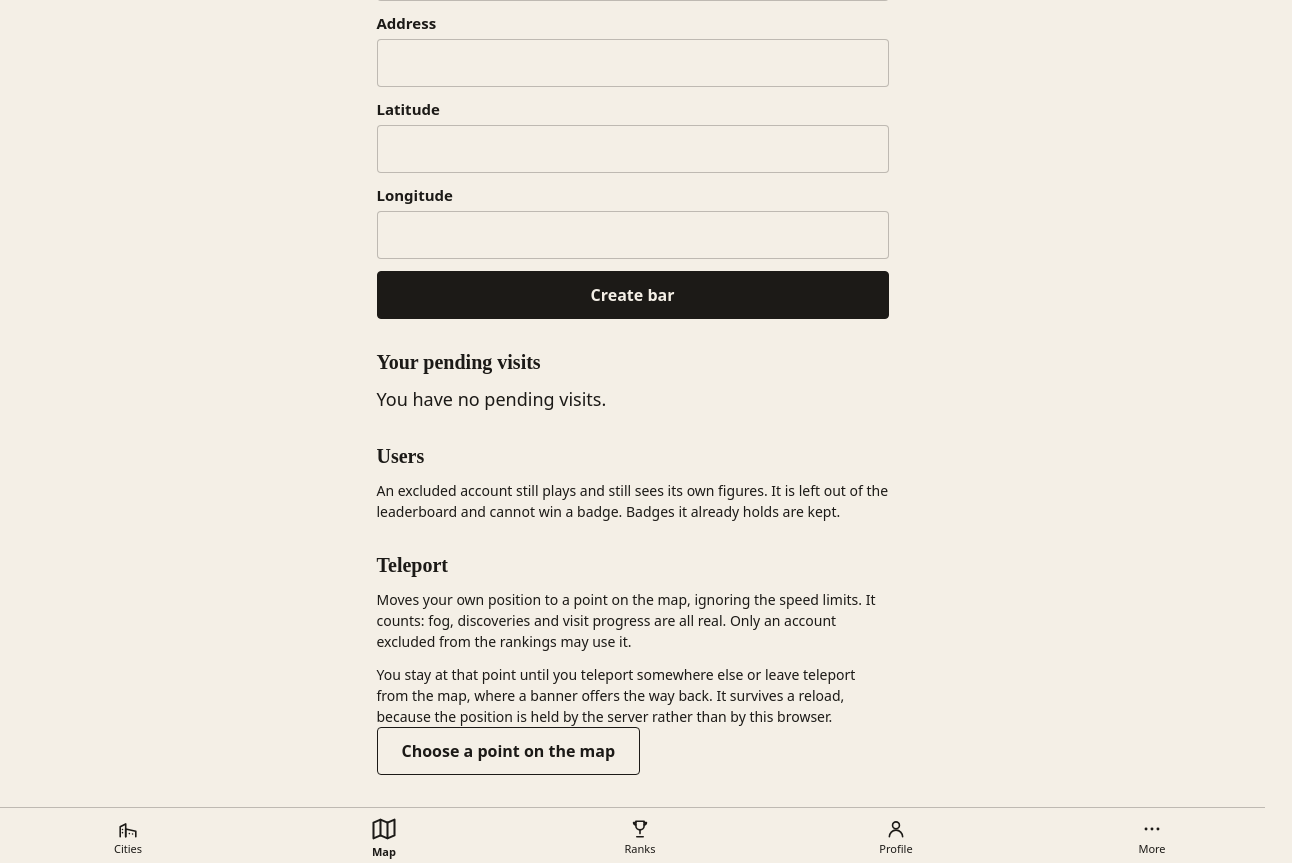
Test: admin teleport › shows the server's reason when the account is still in the rankings
(page scrolled)
Click the button "Choose a point on the map" at x=508, y=751, box [376,727,640,775]
(page scrolled)
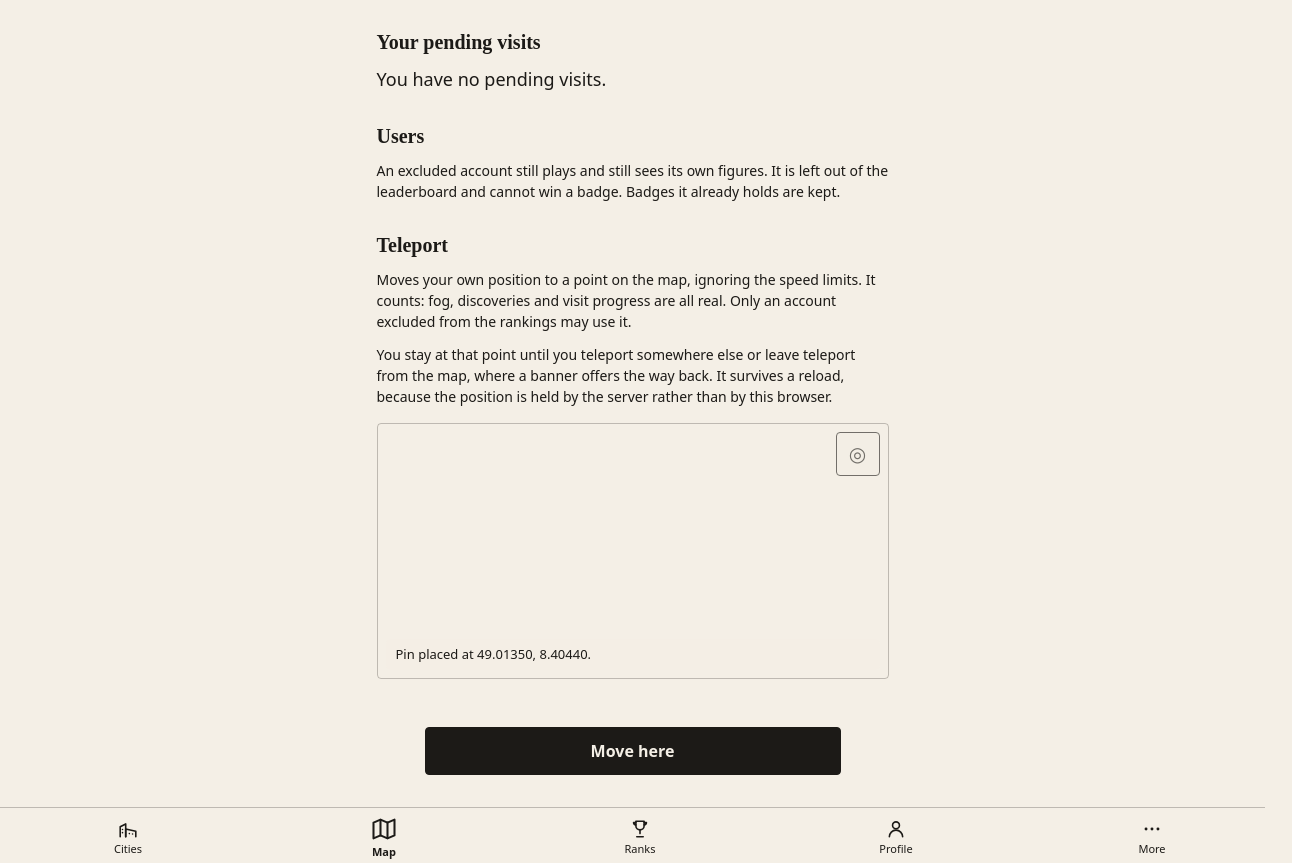
Click the button "Move here" at x=632, y=751, box [424,727,840,775]
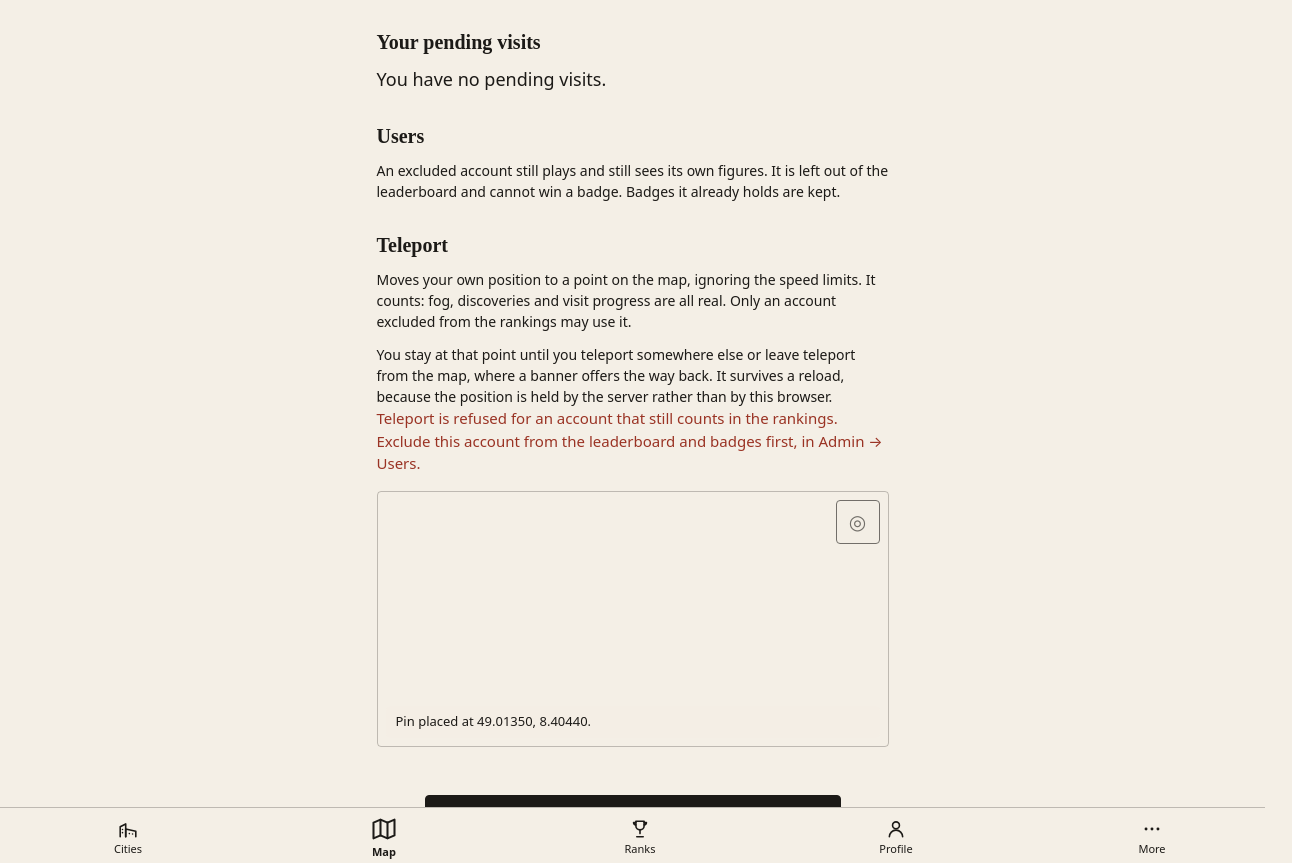
expect the element with class "map-picker" is shown: met, box [376,490,888,746]
expect the message with class "error-message" shows "still counts in the rankings": met, box [376,408,883,473]
